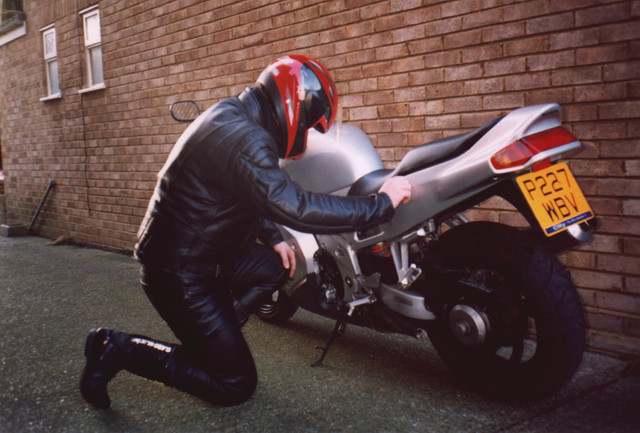helmet: (255, 46, 345, 157)
